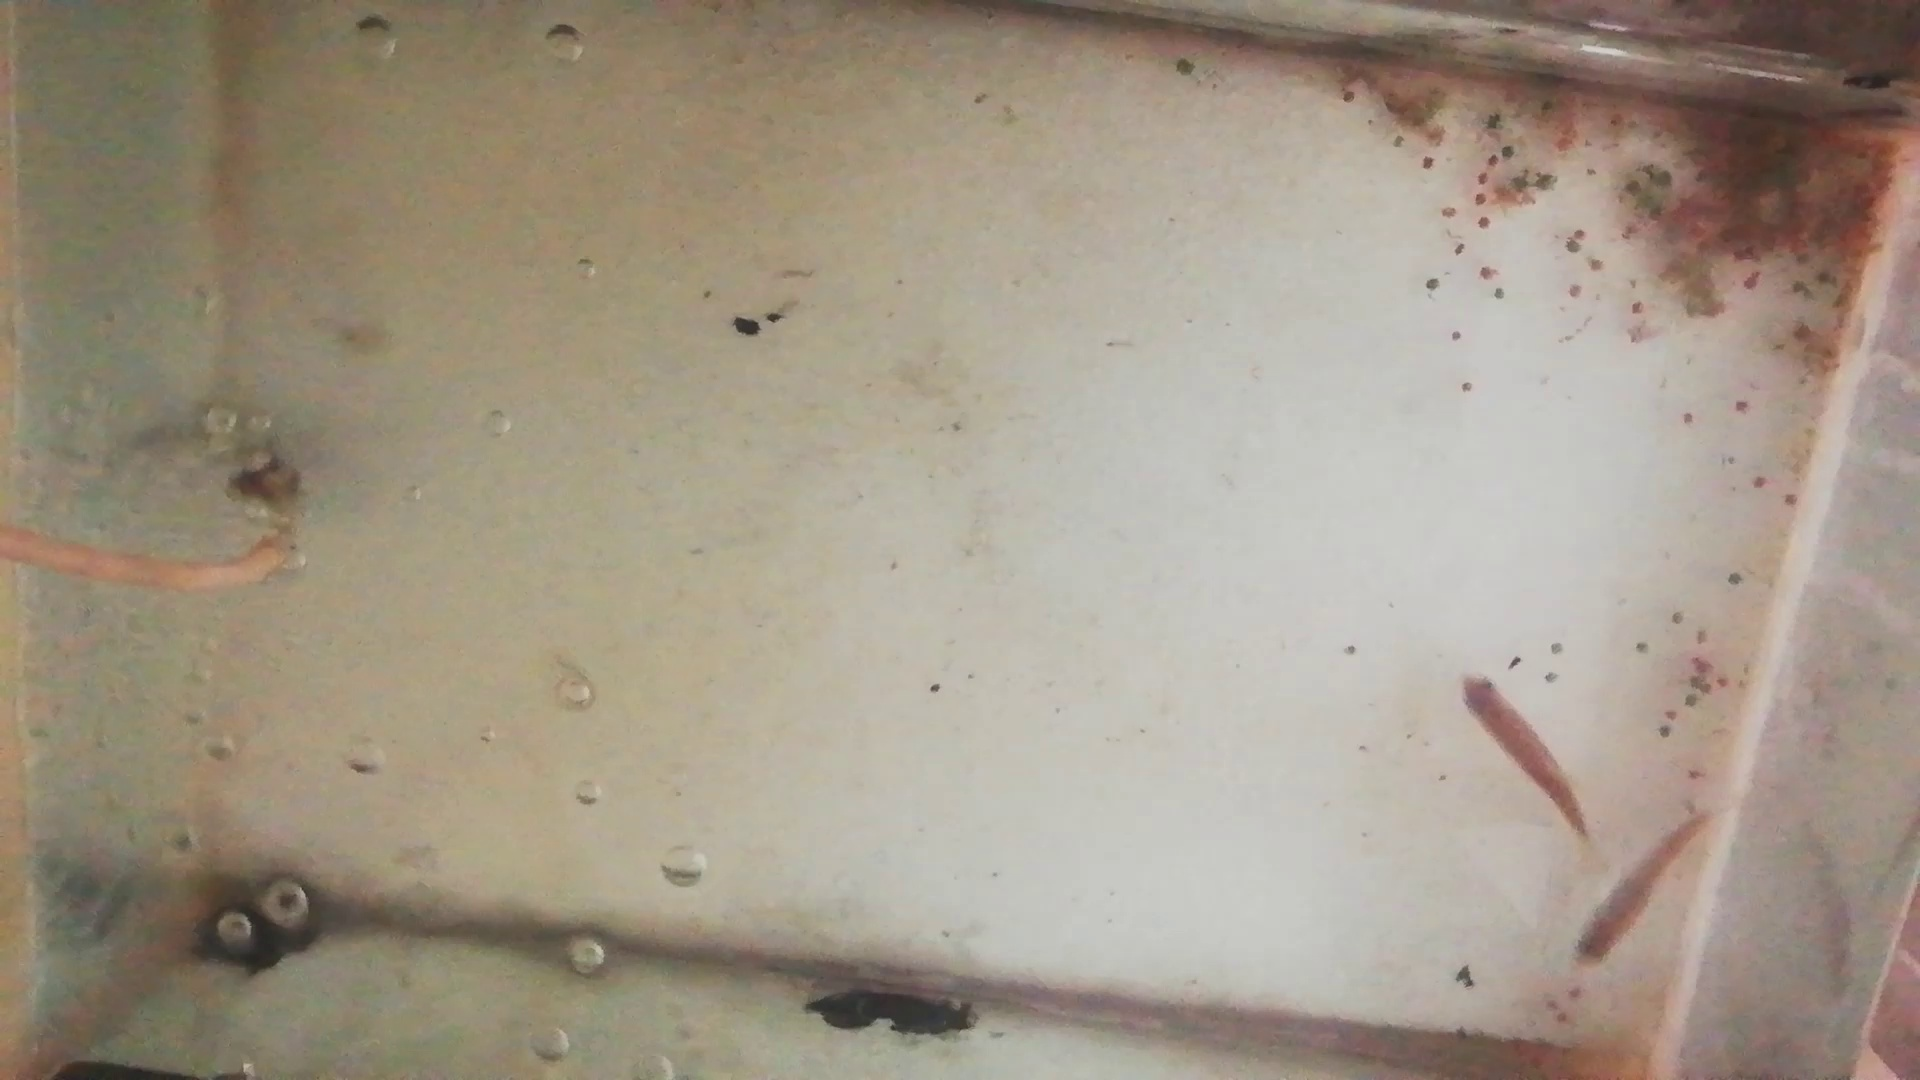fish: (1460, 671, 1586, 836), (1572, 816, 1705, 968)
